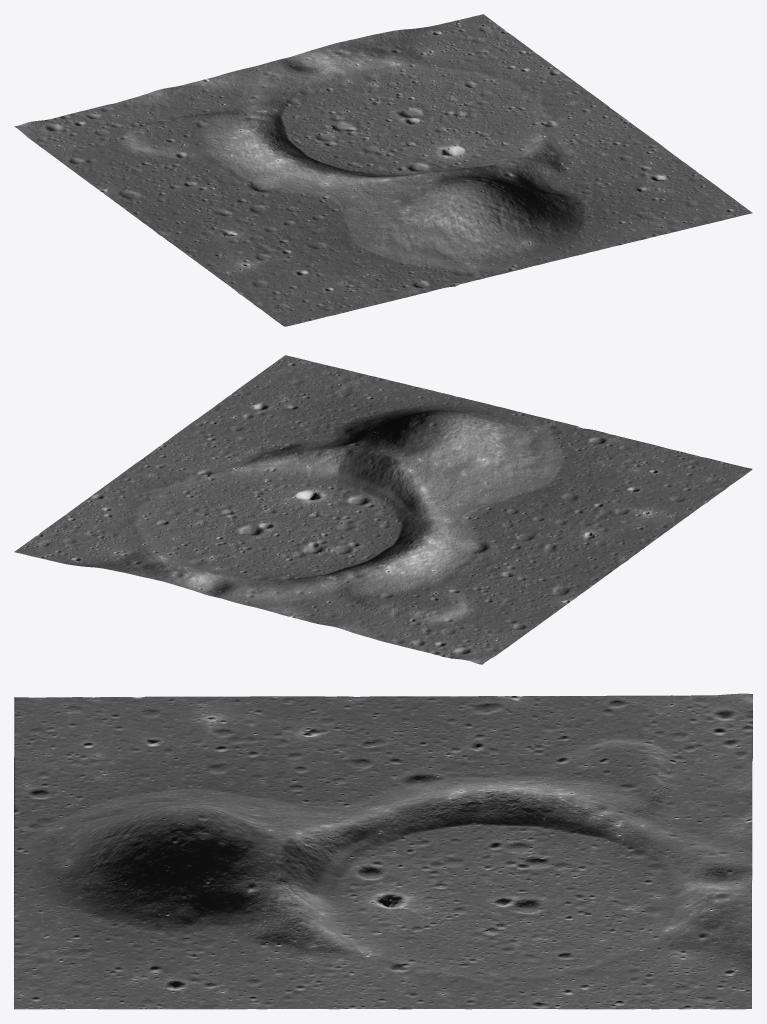
The model's file is moon2.glb.
3 views of the same model, one above another, from view 1: azimuth 30°, elevation 25°; view 2: azimuth 150°, elevation 25°; view 3: azimuth 270°, elevation 25° (orthographic). The views are drawn at different scales.
Visible parts, largest first — view 1: MoonDome_LP; view 2: MoonDome_LP; view 3: MoonDome_LP.
Part boxes in pixels (x1,y1,x2,y2): MoonDome_LP: [14, 14, 752, 326]; MoonDome_LP: [14, 355, 752, 664]; MoonDome_LP: [14, 693, 752, 1009].
Bounding box in the file's own units: 4.98 × 0.4031 × 4.98.
1 material, 1 textured.
